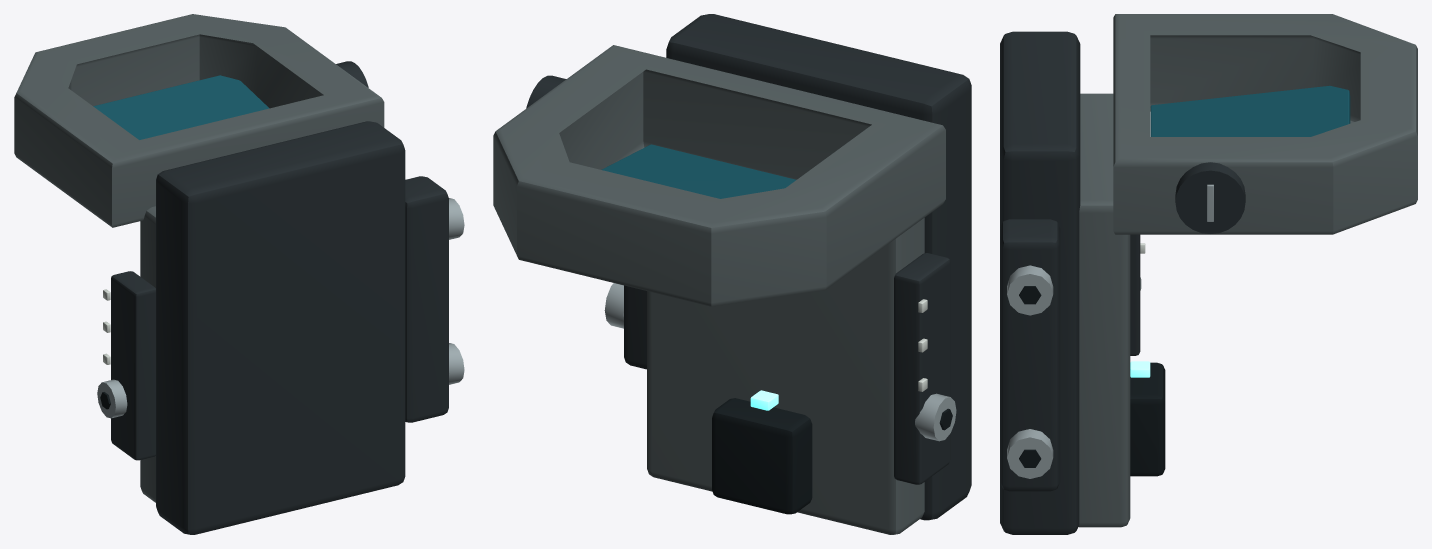
Rendered from scope-1.glb.
The picture shows the model from 3 angles, left to right: view 1: azimuth 30°, elevation 25°; view 2: azimuth 150°, elevation 25°; view 3: azimuth 270°, elevation 25°; orthographic projection. The views are drawn at different scales.
Visible parts, largest first — view 1: 02_Graphite.018, 01_Cerakote.016, 06_OpticalGlass.003, 03_Titanium.018; view 2: 01_Cerakote.016, 02_Graphite.018, 04_Elastomer.018, 06_OpticalGlass.003, 03_Titanium.018; view 3: 01_Cerakote.016, 02_Graphite.018, 06_OpticalGlass.003, 04_Elastomer.018, 03_Titanium.018.
Boxes of the visible parts, x1,y1,x2,y2 form: 02_Graphite.018: (111, 61, 448, 534); 01_Cerakote.016: (14, 14, 384, 502); 06_OpticalGlass.003: (93, 75, 269, 139); 03_Titanium.018: (97, 198, 464, 418); 01_Cerakote.016: (493, 45, 945, 534); 02_Graphite.018: (526, 14, 971, 520); 04_Elastomer.018: (712, 398, 952, 514); 06_OpticalGlass.003: (601, 144, 796, 198); 03_Titanium.018: (604, 283, 956, 441); 01_Cerakote.016: (1078, 14, 1417, 527); 02_Graphite.018: (1000, 31, 1245, 534); 06_OpticalGlass.003: (1150, 85, 1350, 136); 04_Elastomer.018: (1019, 286, 1165, 476); 03_Titanium.018: (1007, 184, 1213, 478).
Bounding box in the file's own units: 0.0365 × 0.0389 × 0.0375.
